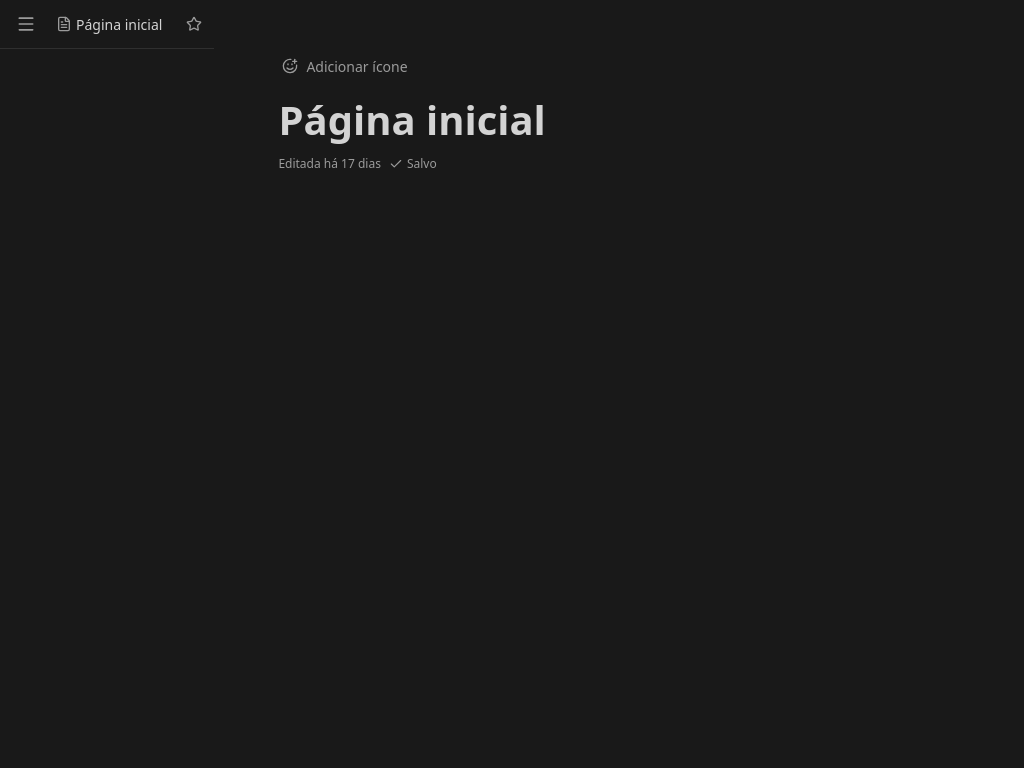
layout (mobile) › opens the drawer from the menu button
Click the button named "Abrir menu" at (26, 24), box [4, 2, 48, 46]
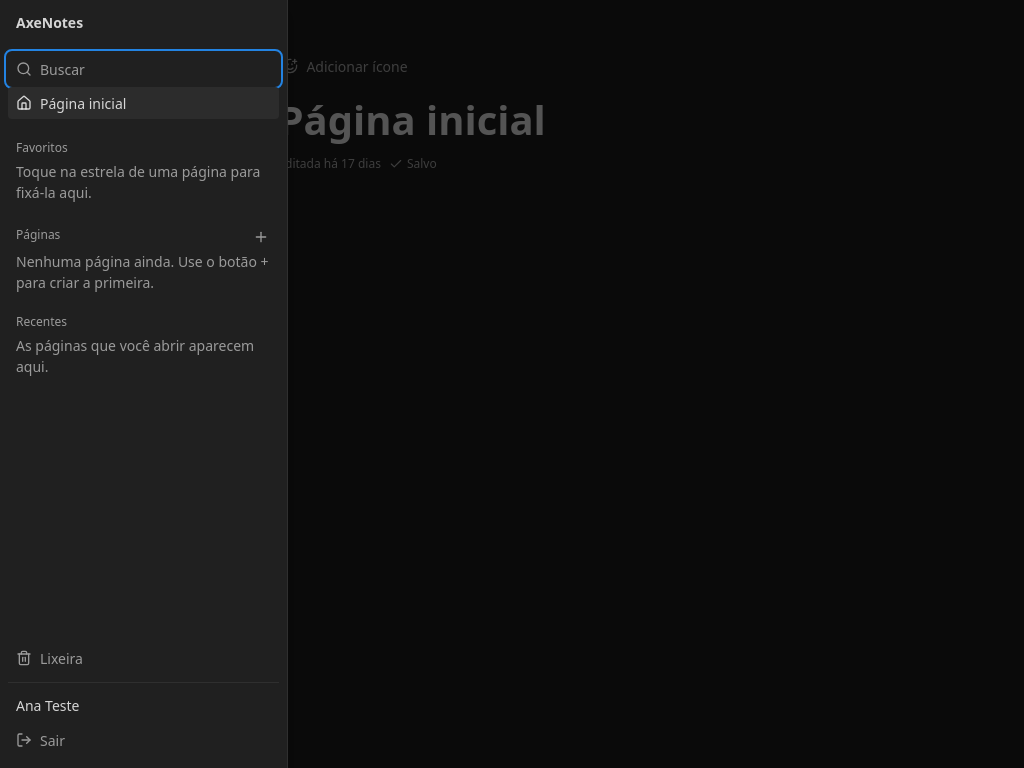
Expected: the navigation bar named "Navegação principal" is shown, [0, 0, 287, 767]
